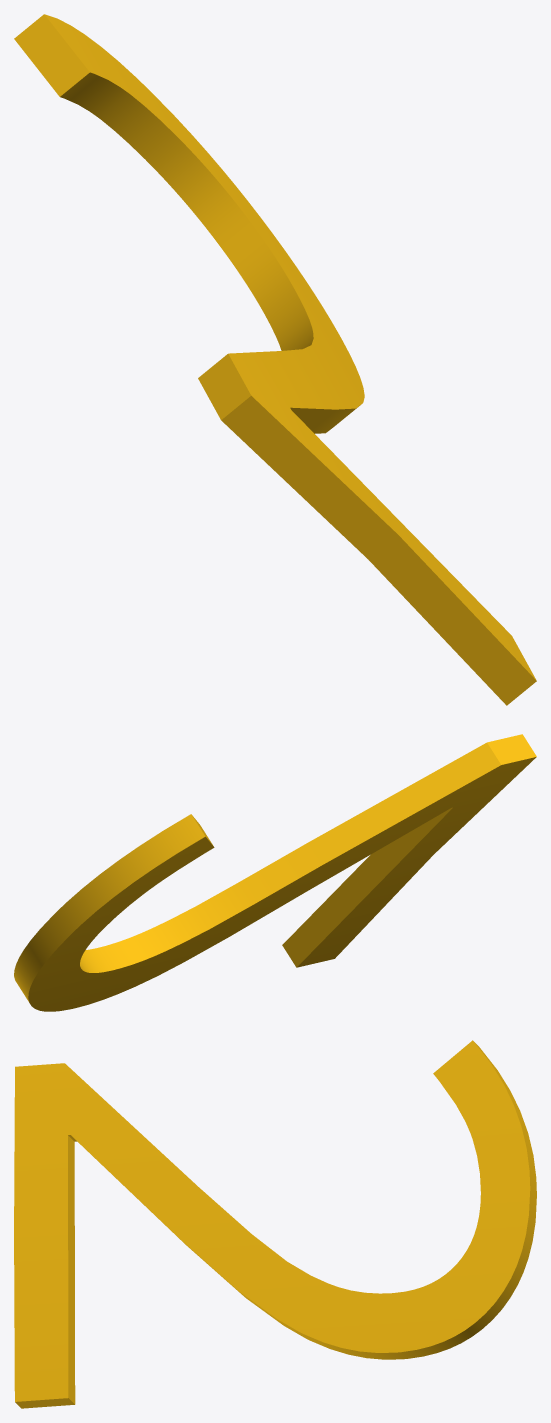
Rendered from Number_2.gltf.
3 renders of one model, top to bottom at view 1: azimuth 30°, elevation 25°; view 2: azimuth 150°, elevation 25°; view 3: azimuth 270°, elevation 25°, orthographic. The views are drawn at different scales.
Visible parts, largest first — view 1: Sub_7_Cell_3_1_Number_2; view 2: Sub_7_Cell_3_1_Number_2; view 3: Sub_7_Cell_3_1_Number_2.
Part boxes in pixels (<box>): Sub_7_Cell_3_1_Number_2: <box>14,14,536,705</box>; Sub_7_Cell_3_1_Number_2: <box>14,734,536,1011</box>; Sub_7_Cell_3_1_Number_2: <box>14,1040,536,1408</box>.
Bounding box in the file's own units: 0.0151 × 0.0171 × 0.0249.
